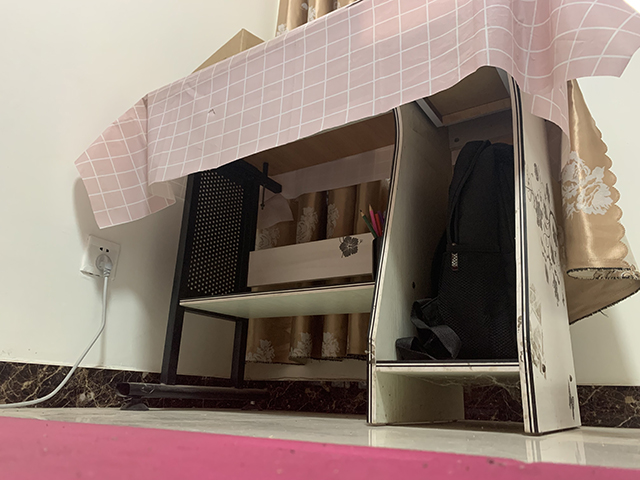cabinet: (73, 1, 640, 436)
carpet: (1, 415, 640, 480)
wire: (1, 253, 114, 408)
